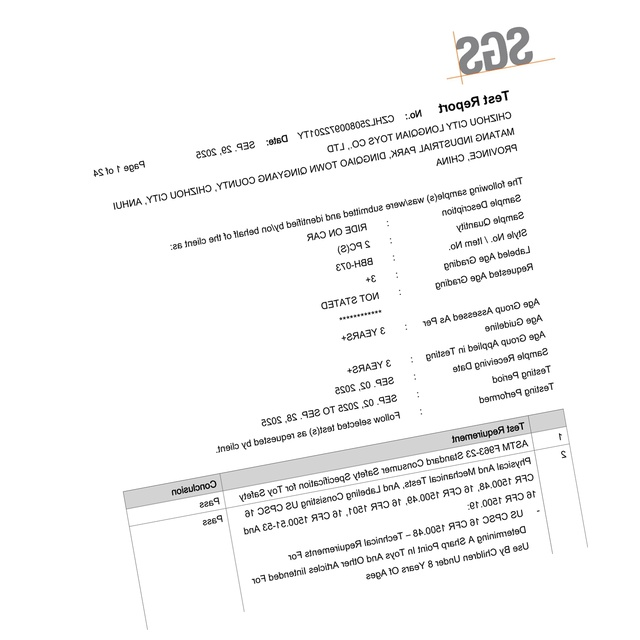sgs: (455, 26, 532, 76)
